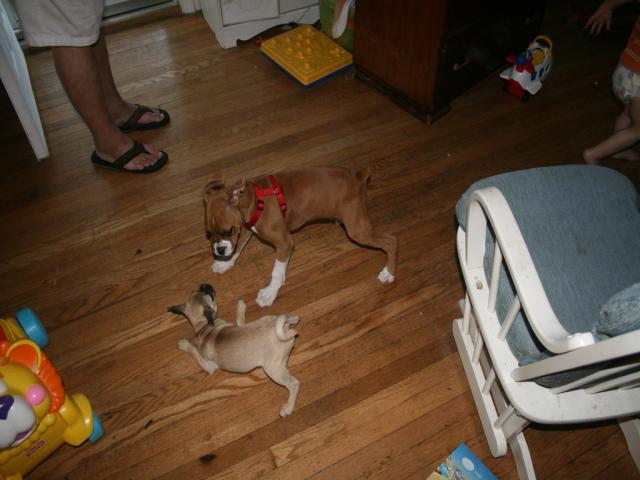Dog: (202, 165, 400, 307), (167, 284, 300, 418)
